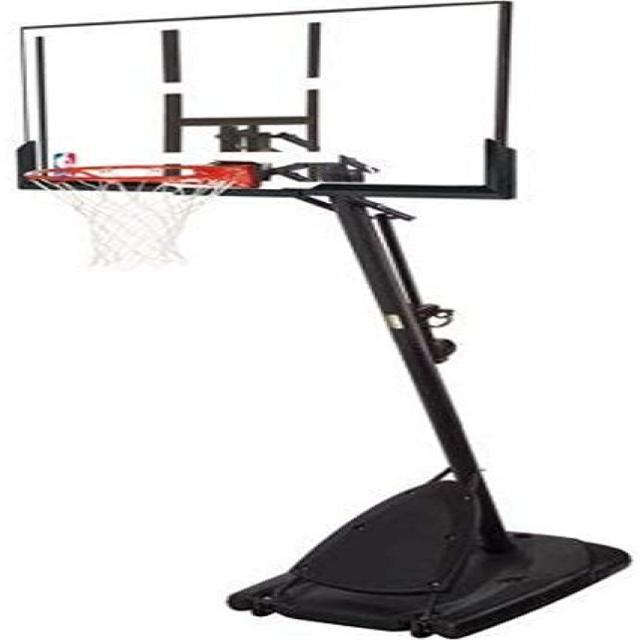hoop: (24, 164, 244, 266)
